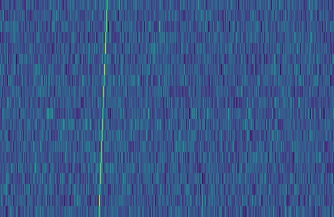signal: (92, 0, 109, 217)
